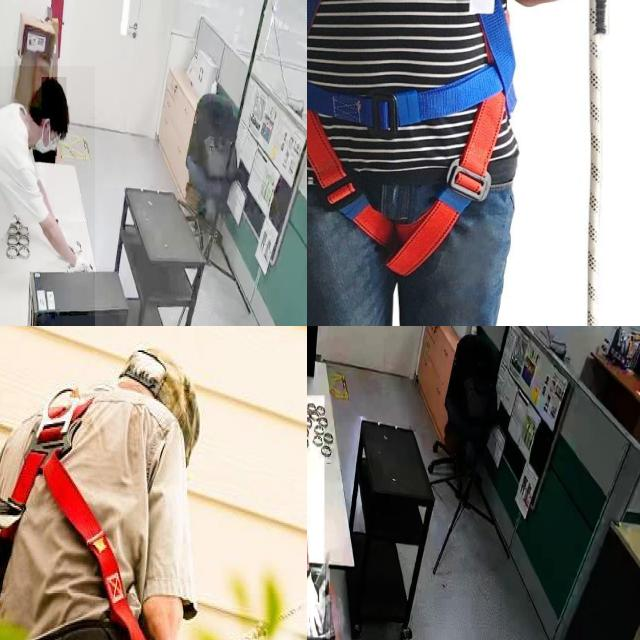Harness: (307, 0, 520, 218), (0, 392, 144, 640)
face_mask: (28, 120, 62, 162)
hand_glove: (307, 564, 330, 639), (68, 245, 94, 287)
head_nohelmet: (42, 77, 66, 119)
person: (0, 66, 95, 326)
